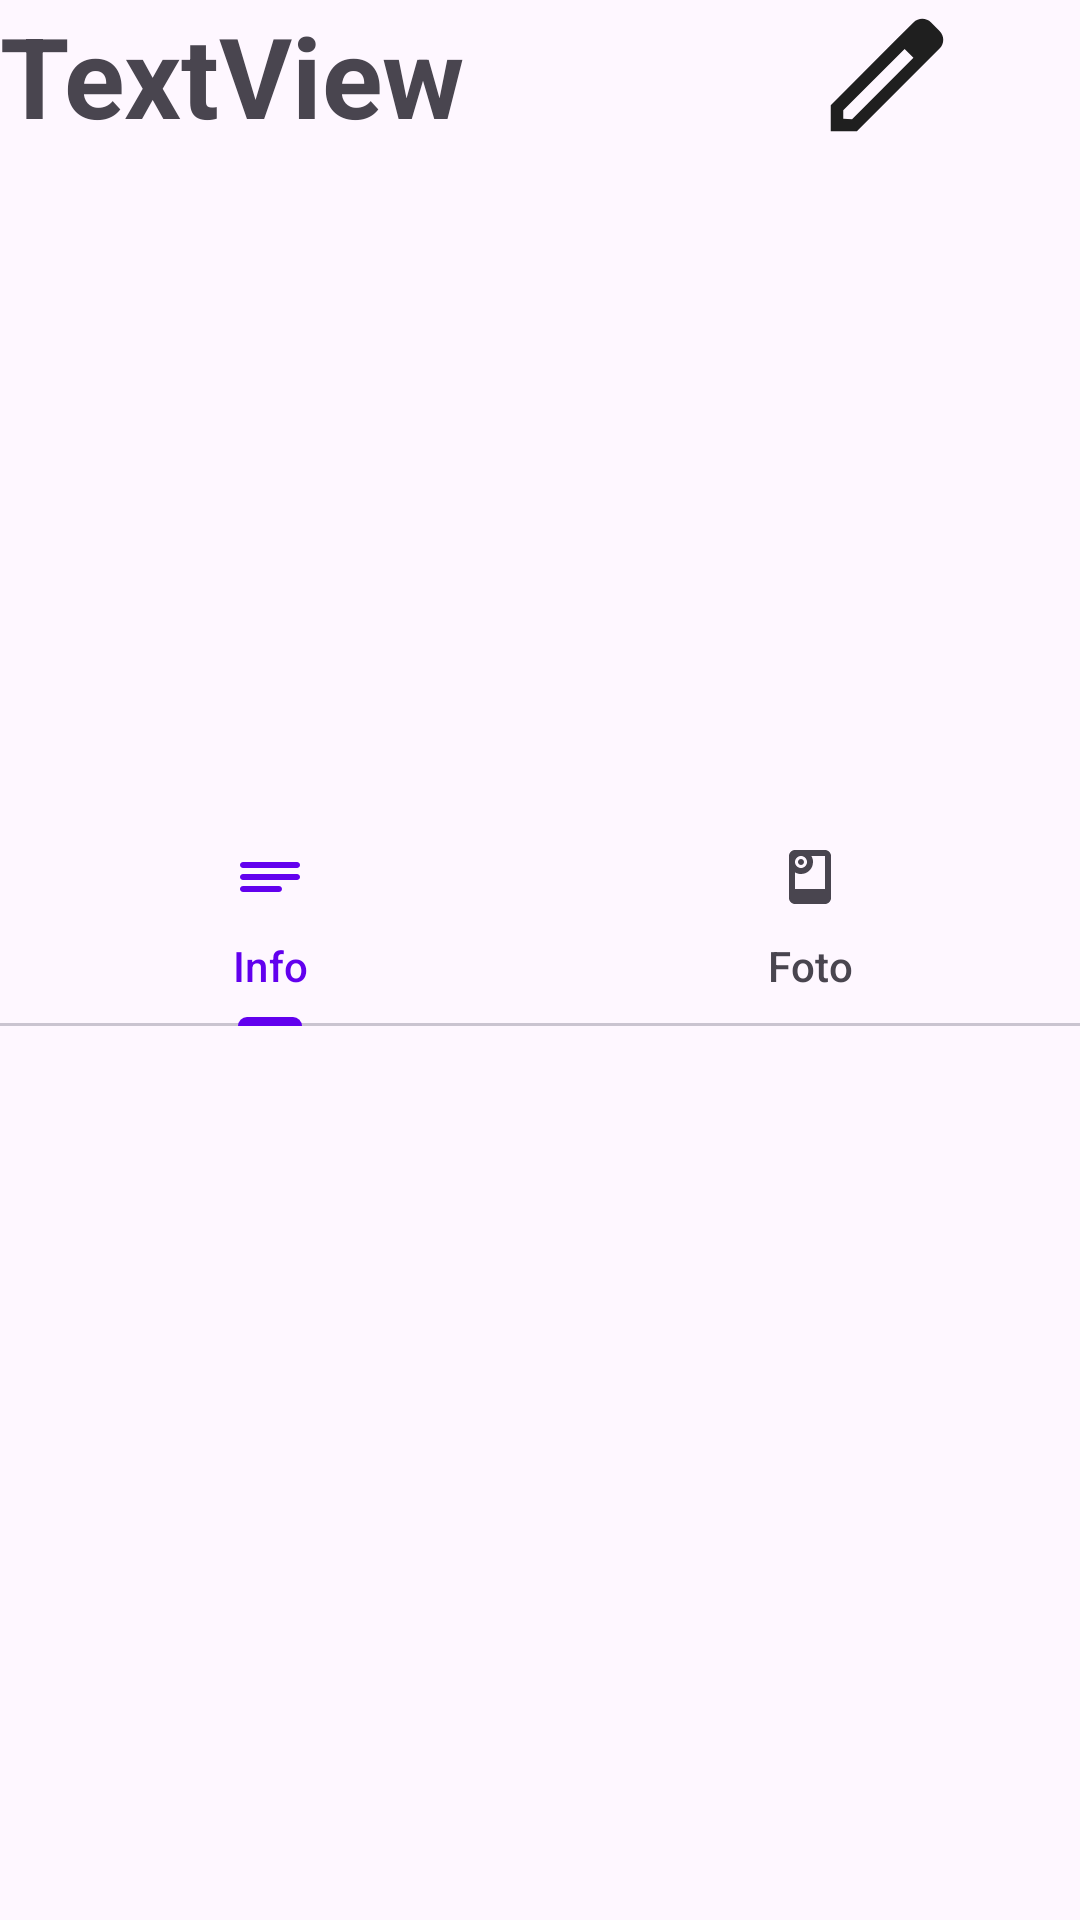

Named icons in this screenshot (1080w x 1920h) and their bounding boxes, rect(x1, y1, x2, y2):
edit: rect(830, 18, 944, 132)
